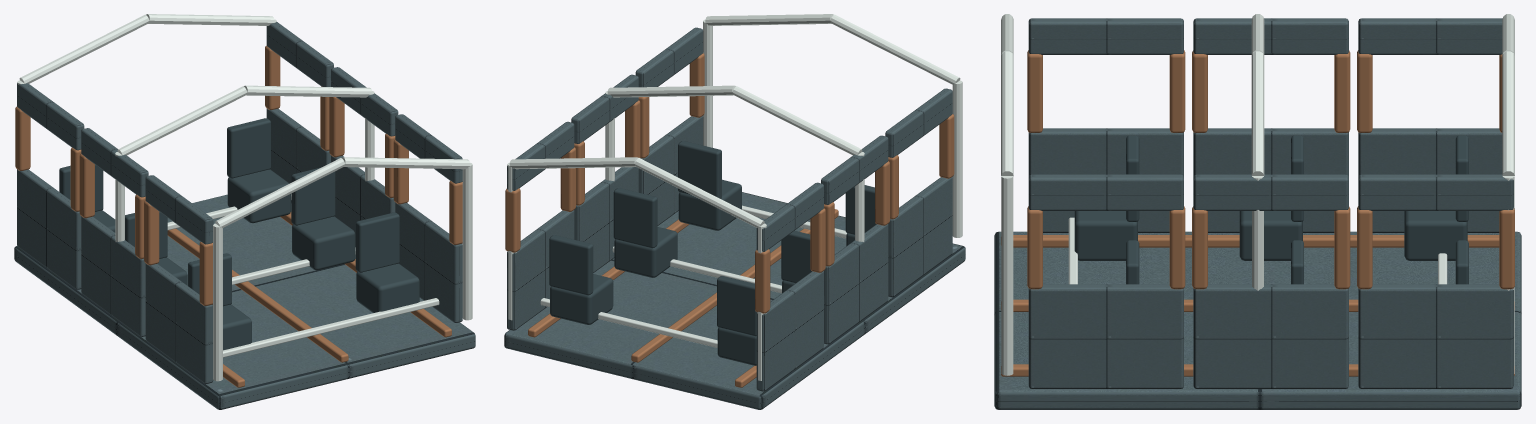
The model's file is diving-and-underwater-salvage-wreck-cabin-section-e17bfa4a__28438.glb.
3 views of the same model, side by side, from view 1: azimuth 30°, elevation 25°; view 2: azimuth 150°, elevation 25°; view 3: azimuth 270°, elevation 25° (orthographic). The views are drawn at different scales.
Parts seen in each view (by area): view 1: wreck-cabin-section-steel, wreck-cabin-section-dark, wreck-cabin-section-pale, wreck-cabin-section-rust; view 2: wreck-cabin-section-steel, wreck-cabin-section-dark, wreck-cabin-section-pale, wreck-cabin-section-rust; view 3: wreck-cabin-section-steel, wreck-cabin-section-rust, wreck-cabin-section-dark, wreck-cabin-section-pale.
Part boxes in pixels (left/top/right/bottom): wreck-cabin-section-steel: left=14, top=22, right=475, bottom=409; wreck-cabin-section-dark: left=59, top=118, right=419, bottom=350; wreck-cabin-section-pale: left=17, top=14, right=472, bottom=381; wreck-cabin-section-rust: left=15, top=45, right=462, bottom=387; wreck-cabin-section-steel: left=504, top=27, right=965, bottom=409; wreck-cabin-section-dark: left=549, top=141, right=876, bottom=365; wreck-cabin-section-pale: left=507, top=14, right=962, bottom=380; wreck-cabin-section-rust: left=505, top=53, right=954, bottom=387; wreck-cabin-section-steel: left=994, top=18, right=1521, bottom=409; wreck-cabin-section-rust: left=1001, top=50, right=1514, bottom=376; wreck-cabin-section-dark: left=1074, top=135, right=1468, bottom=284; wreck-cabin-section-pale: left=1001, top=14, right=1514, bottom=375.
Bounding box in the file's own units: 2.93 × 2.34 × 4.
Materials: 4 (1 with a texture image).
